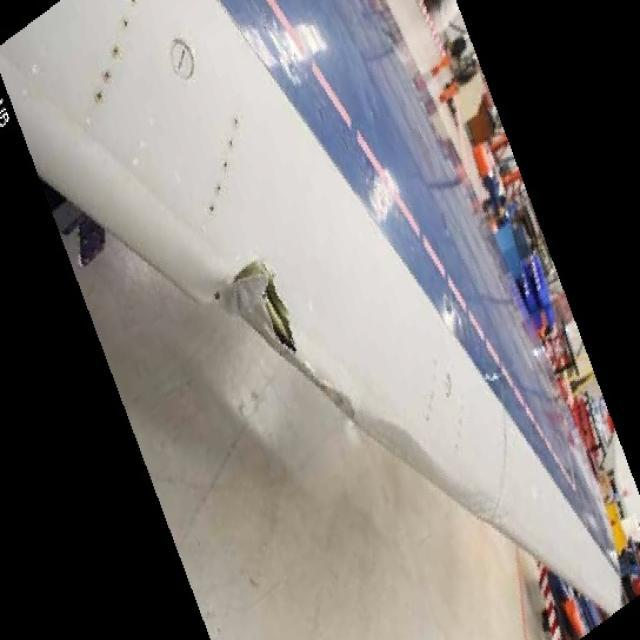crack: (225, 262, 300, 357)
dent: (322, 377, 465, 508)
